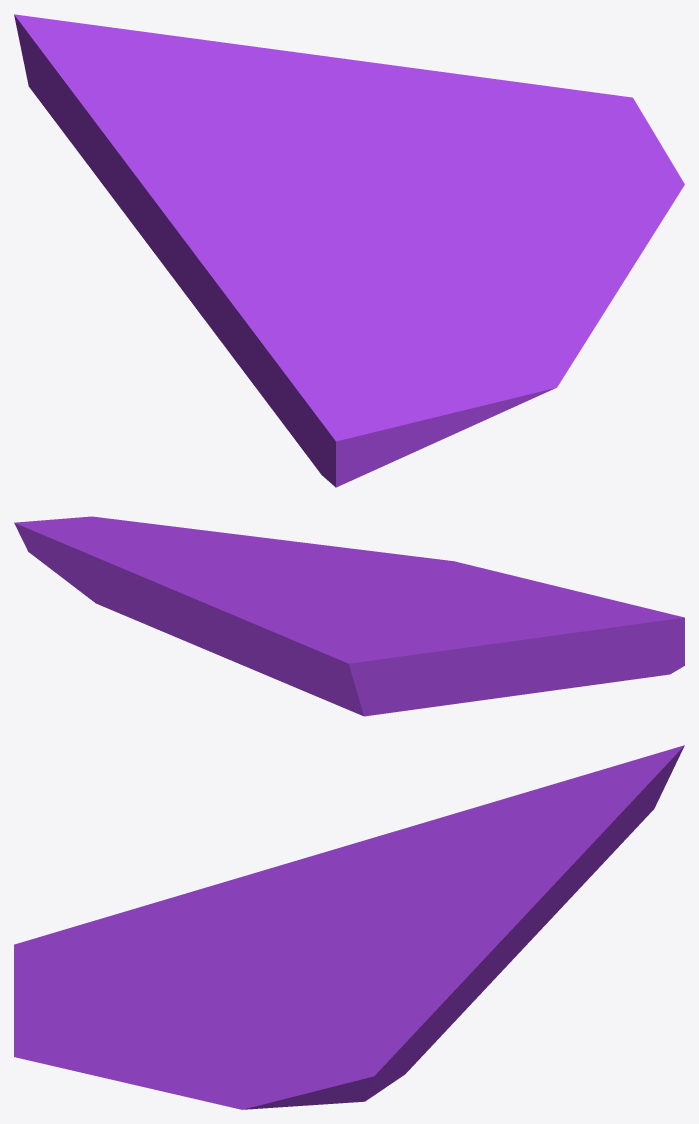
The model's file is Window_149_0_chunks.fbx.
3 renders of one model, top to bottom at view 1: azimuth 30°, elevation 25°; view 2: azimuth 150°, elevation 25°; view 3: azimuth 270°, elevation 25°, orthographic. The views are drawn at different scales.
Visible parts, largest first — view 1: Window_149_0_14, Window_149_0_7, Window_149_0_11, Window_149_0_13, Window_149_0_15, Window_149_0_2, Window_149_0_8, Window_149_0_18, Window_149_0_3, Window_149_0_10, Window_149_0_1, Window_149_0_0 (+4 smaller); view 2: Window_149_0_14, Window_149_0_15, Window_149_0_7, Window_149_0_11, Window_149_0_8, Window_149_0_13, Window_149_0_18, Window_149_0_2, Window_149_0_3, Window_149_0_17, Window_149_0_10, Window_149_0_1 (+6 smaller); view 3: Window_149_0_14, Window_149_0_11, Window_149_0_13, Window_149_0_8, Window_149_0_7, Window_149_0_15, Window_149_0_2, Window_149_0_3, Window_149_0_18, Window_149_0_10, Window_149_0_1, Window_149_0_0 (+2 smaller).
Part boxes in pixels (x1,y1,x2,y2): Window_149_0_14: (60, 20, 386, 180); Window_149_0_7: (233, 302, 426, 487); Window_149_0_11: (474, 76, 684, 235); Window_149_0_13: (214, 163, 413, 329); Window_149_0_15: (14, 14, 197, 192); Window_149_0_2: (425, 299, 591, 422); Window_149_0_8: (331, 57, 479, 197); Window_149_0_18: (138, 145, 264, 330); Window_149_0_3: (382, 215, 609, 301); Window_149_0_10: (405, 173, 652, 243); Window_149_0_1: (502, 238, 647, 331); Window_149_0_0: (372, 252, 465, 369); Window_149_0_14: (178, 586, 388, 688); Window_149_0_15: (300, 628, 479, 716); Window_149_0_7: (493, 594, 684, 677); Window_149_0_11: (14, 516, 223, 593); Window_149_0_8: (100, 559, 310, 651); Window_149_0_13: (279, 583, 589, 685); Window_149_0_18: (377, 616, 558, 691); Window_149_0_2: (355, 549, 568, 591); Window_149_0_3: (219, 538, 404, 592); Window_149_0_17: (448, 656, 547, 704); Window_149_0_10: (183, 527, 326, 583); Window_149_0_1: (198, 529, 375, 567); Window_149_0_14: (366, 770, 661, 951); Window_149_0_11: (185, 991, 453, 1109); Window_149_0_13: (204, 869, 383, 969); Window_149_0_8: (314, 914, 525, 1047); Window_149_0_7: (14, 888, 214, 990); Window_149_0_15: (424, 745, 684, 871); Window_149_0_2: (14, 986, 157, 1071); Window_149_0_3: (149, 955, 289, 1074); Window_149_0_18: (268, 823, 451, 888); Window_149_0_10: (176, 963, 323, 1096); Window_149_0_1: (76, 1022, 193, 1094); Window_149_0_0: (80, 951, 250, 1002).
Size of the model in its own units: 937 by 453 by 1113.
